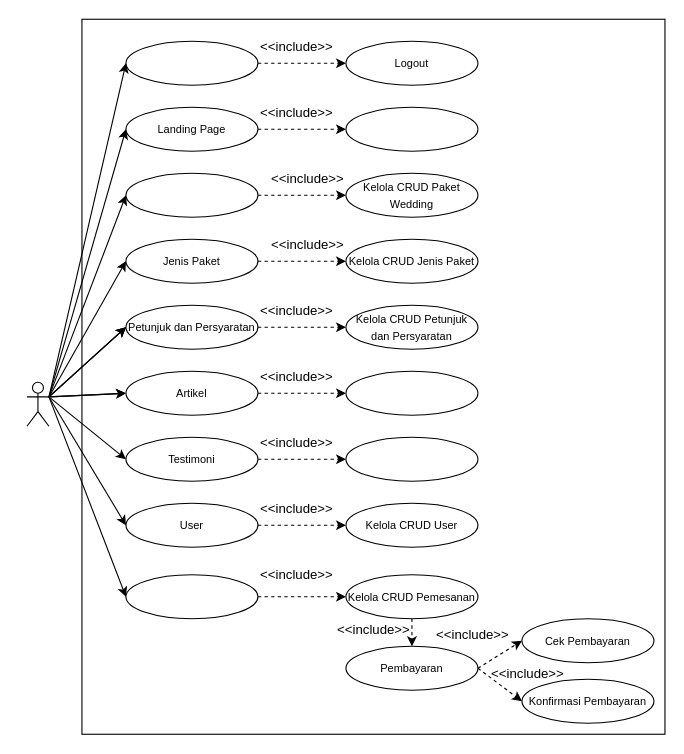
Some shapes in this 684 by 754 pixel diagram are drawn without their labels. The box of each missing label's shape, as (x1, y1, x2, y2) in pixels:
Admin: (26, 381, 49, 426)
Kelola CRUD Artikel: (345, 370, 478, 415)
Kelola CRUD Landing Page: (345, 106, 478, 151)
Kelola CRUD Testimoni: (345, 436, 478, 481)
Login: (125, 40, 258, 85)
Paket Wedding: (125, 172, 258, 217)
Pemesanan: (125, 574, 258, 619)
